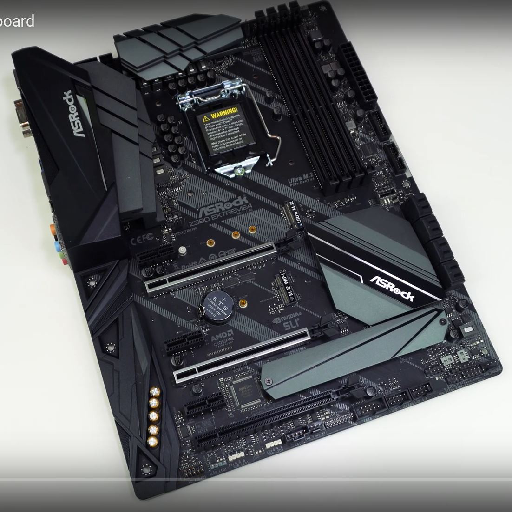CPU: (181, 78, 266, 180)
GPU: (191, 373, 364, 451), (174, 312, 336, 384), (143, 227, 302, 298)
MOTHERBOARD: (19, 1, 504, 499)
RAM: (255, 2, 375, 198)
SSD: (280, 200, 306, 233), (275, 270, 296, 308)
